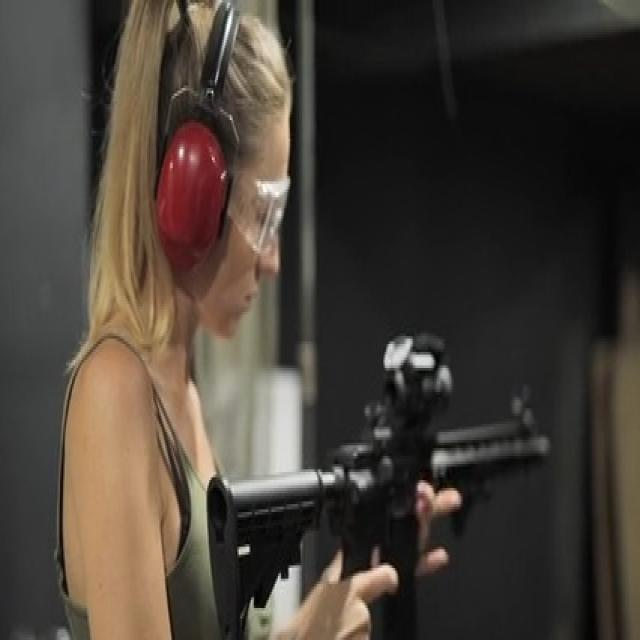Gun_Holder: (193, 322, 622, 640)
Person: (62, 0, 407, 640)
